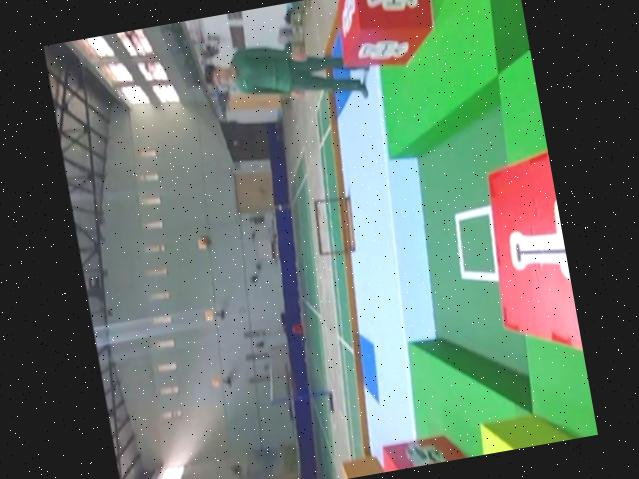R1: (373, 429, 478, 473)
R2 Real: (472, 144, 584, 373), (325, 0, 446, 76)
